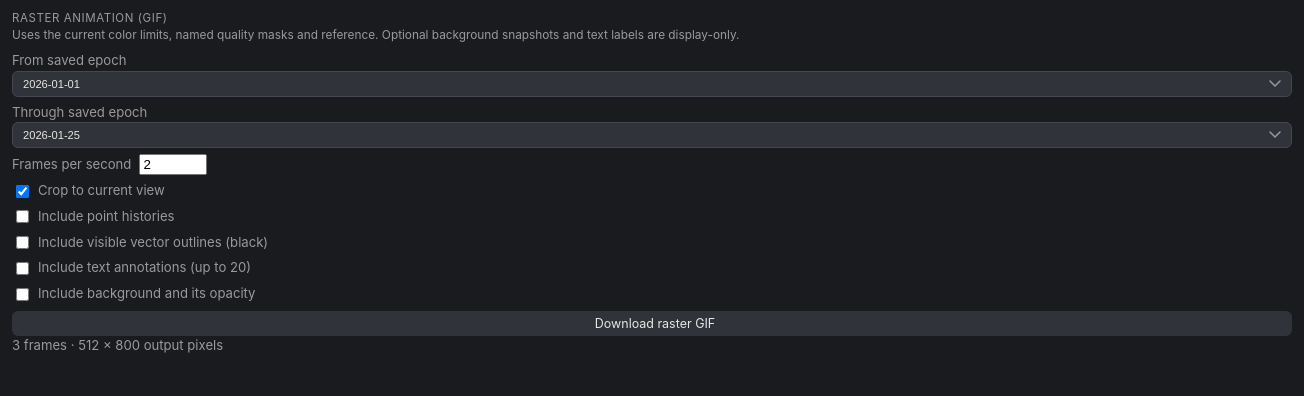
Test: observes adding and hiding a point without remounting or unrelated state changes
Later steps or results of the test are not shown.
Check: the button "Download raster GIF" is enabled, box top-left (12, 311), bottom-right (1292, 336)
Click the checkbox named "Include point histories in GIF". click: (22, 217)
box: top-left (16, 210), bottom-right (29, 223)
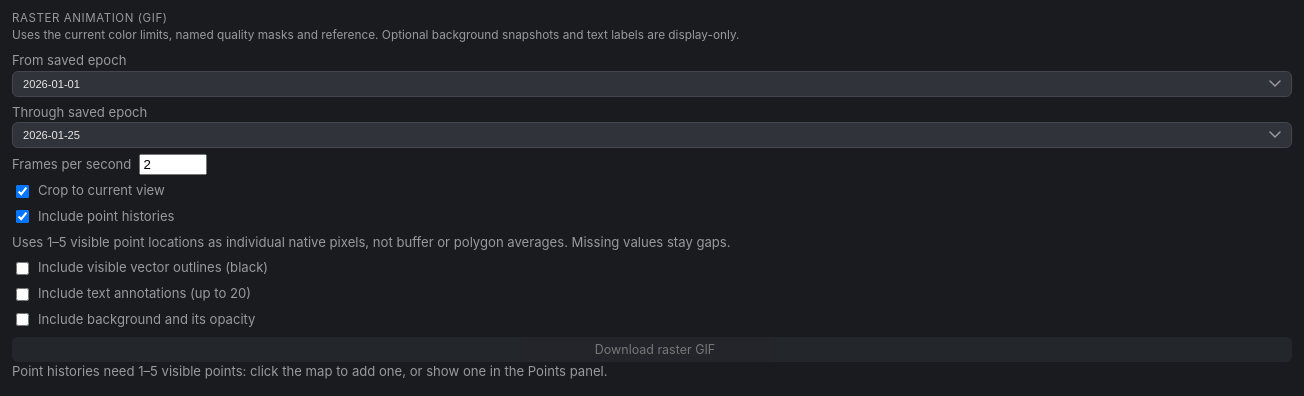
Check: the button "Download raster GIF" is disabled, box top-left (12, 336), bottom-right (1292, 362)
Check: the text "Point histories need 1–5 visible points: click the map to add one" is shown, box top-left (12, 362), bottom-right (608, 378)
